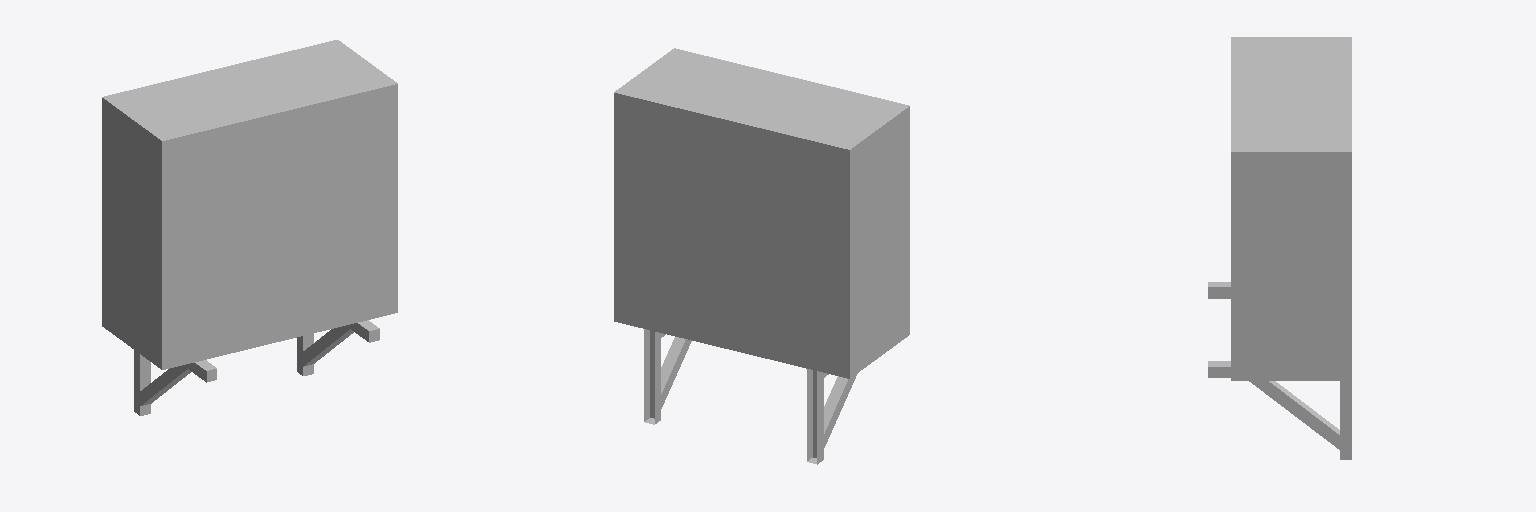
File: Vent_A.obj
3 views of the same model, side by side, from view 1: azimuth 30°, elevation 25°; view 2: azimuth 150°, elevation 25°; view 3: azimuth 270°, elevation 25° (orthographic).
Parts seen in each view (by area): view 1: Ventilation_1; view 2: Ventilation_1; view 3: Ventilation_1.
Boxes of the visible parts, x1=… form: Ventilation_1: x1=102, y1=40, x2=397, y2=415; Ventilation_1: x1=614, y1=48, x2=909, y2=464; Ventilation_1: x1=1208, y1=37, x2=1351, y2=459.
Size of the model in its own units: 1.15 by 1.5 by 0.6115.